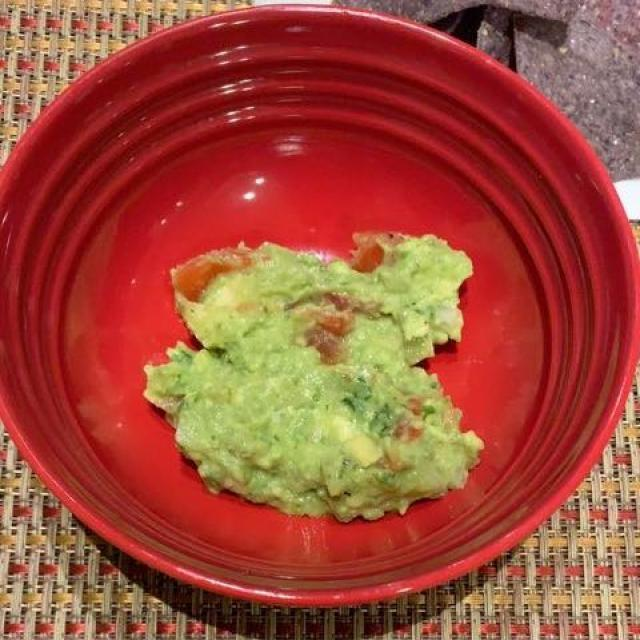guacamole: (147, 241, 477, 516)
